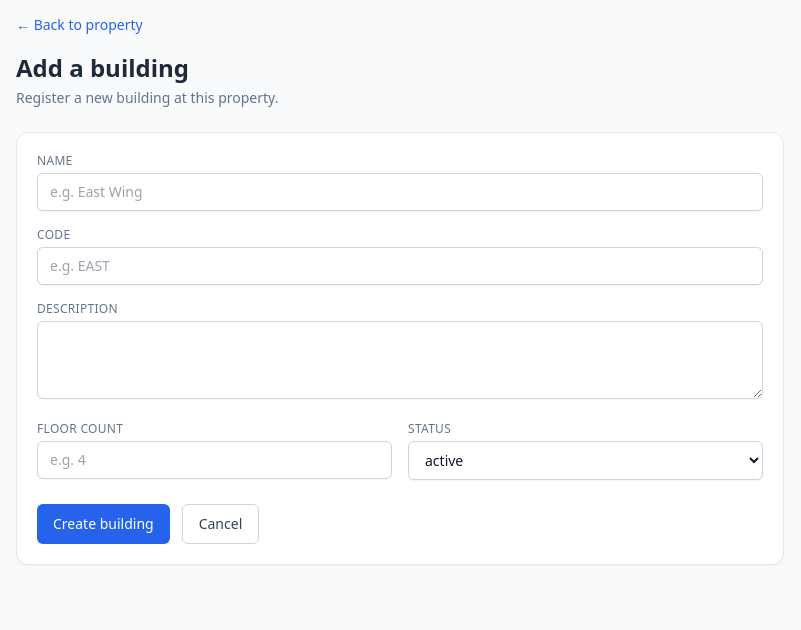
Test: Staff building form page › shows inline validation errors for an incomplete form
Click the button "Create building": (103, 524) [37,504,170,544]
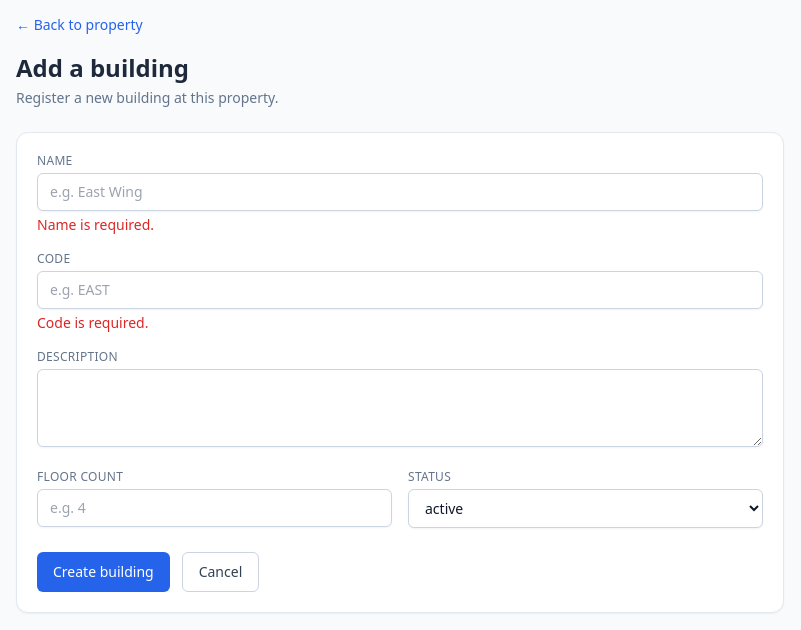
Now the text "Name is required." is shown, box [37,215,154,234]
Now the text "Code is required." is shown, box [37,313,148,332]
